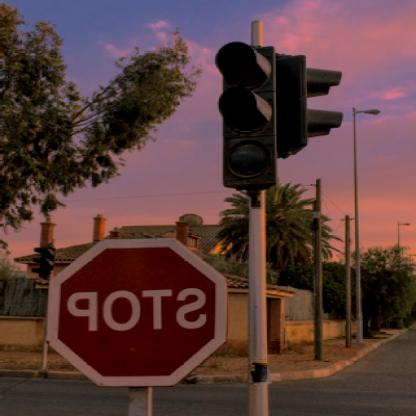stop: (49, 236, 228, 384)
trafficlight: (223, 44, 277, 188), (282, 48, 348, 154)
